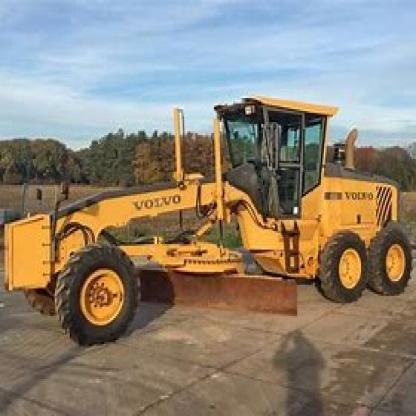bull_dozer/loader/grader: (3, 80, 414, 348)
